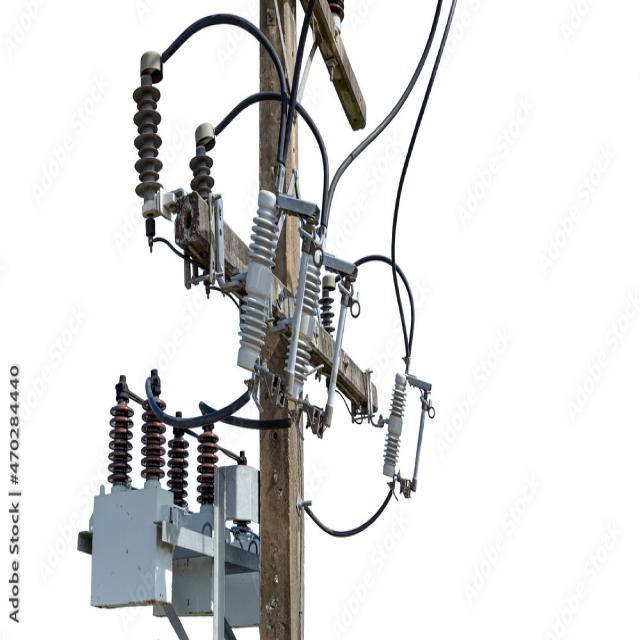insulator: (126, 74, 177, 240), (106, 370, 152, 537), (192, 416, 238, 524), (137, 392, 181, 496), (168, 428, 197, 502), (190, 143, 210, 220)
